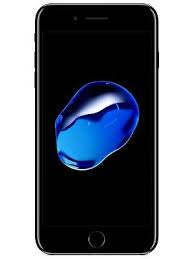iphone: (31, 1, 160, 259)
iphone7: (32, 1, 161, 259)
